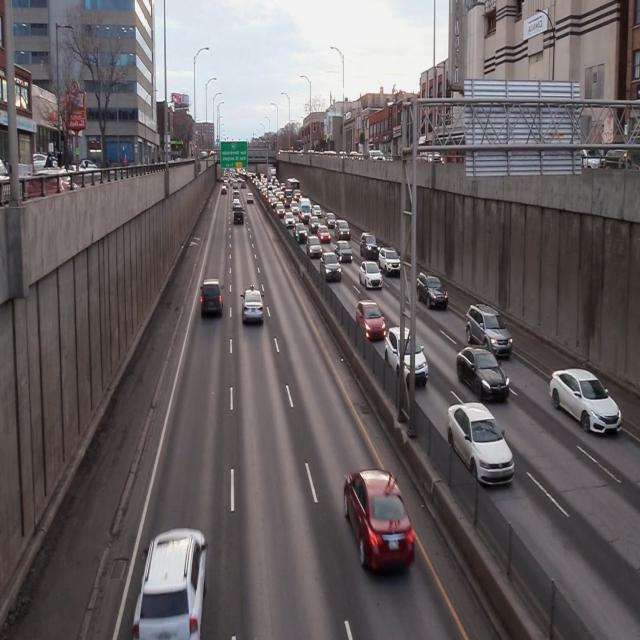Vehicle: (132, 528, 209, 640), (342, 467, 415, 576), (444, 402, 515, 492), (550, 366, 620, 442), (454, 346, 510, 402), (464, 300, 510, 362), (384, 327, 428, 388), (354, 295, 390, 343), (416, 270, 447, 315), (198, 274, 224, 322), (240, 287, 262, 325), (357, 255, 382, 287), (378, 244, 399, 276), (319, 251, 340, 282)
